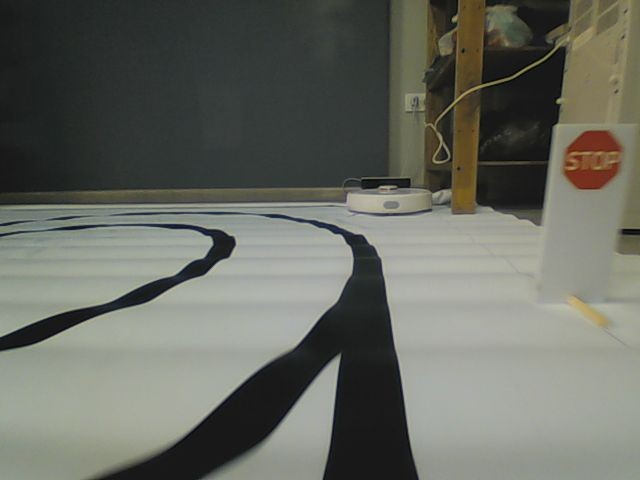Stop: (560, 128, 622, 188)
